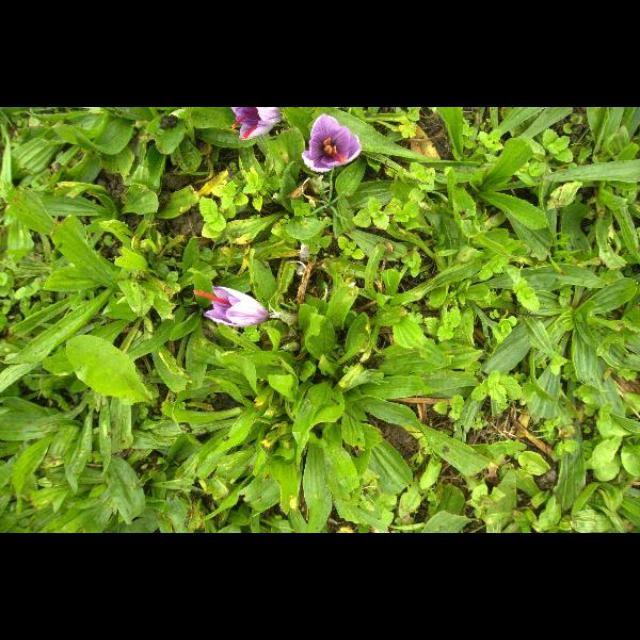flower: (302, 116, 362, 172), (194, 288, 266, 326), (232, 108, 278, 142)
